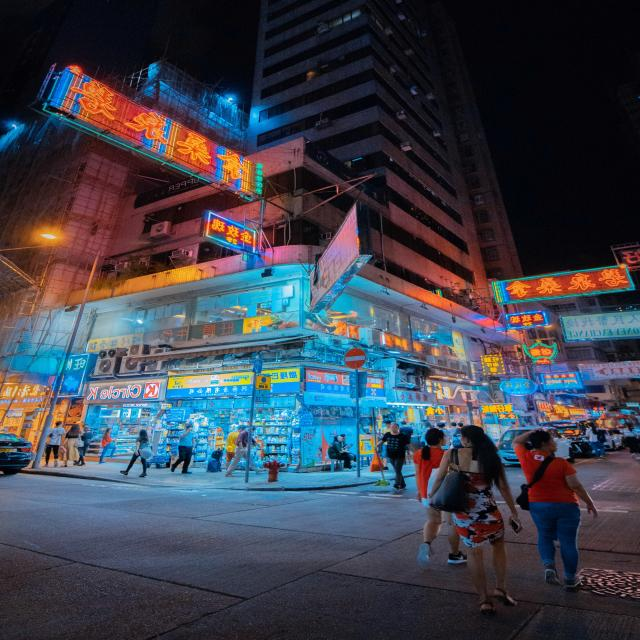adult: (428, 418, 522, 618), (508, 426, 600, 591)
